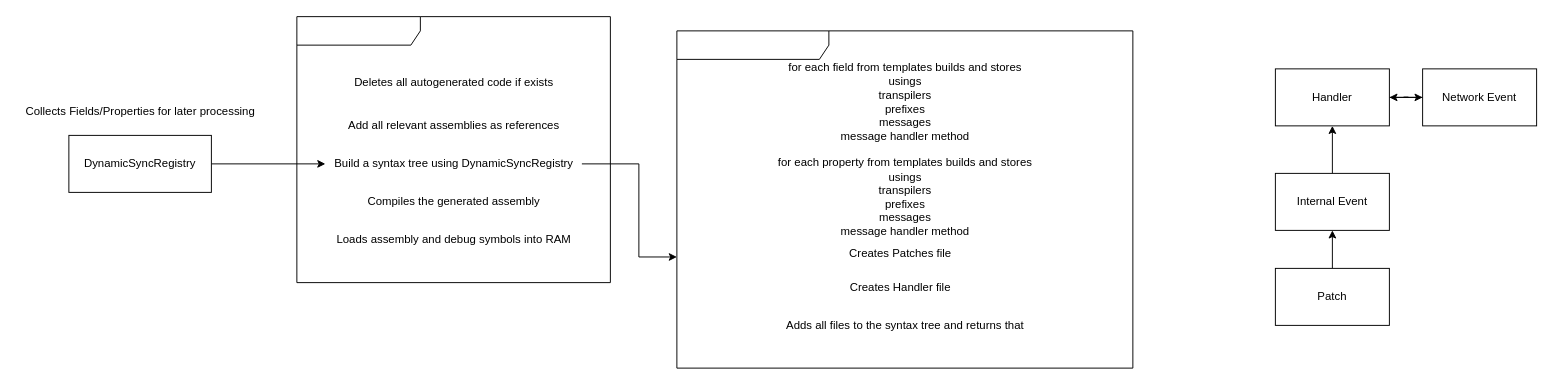
This 1553x385 diagram has some shape labels left out. Each missing label, with the box of its shape:
DynamicSyncBuilder: (296, 16, 610, 283)
DynamicSyncPatchBuilder: (676, 30, 1133, 368)
